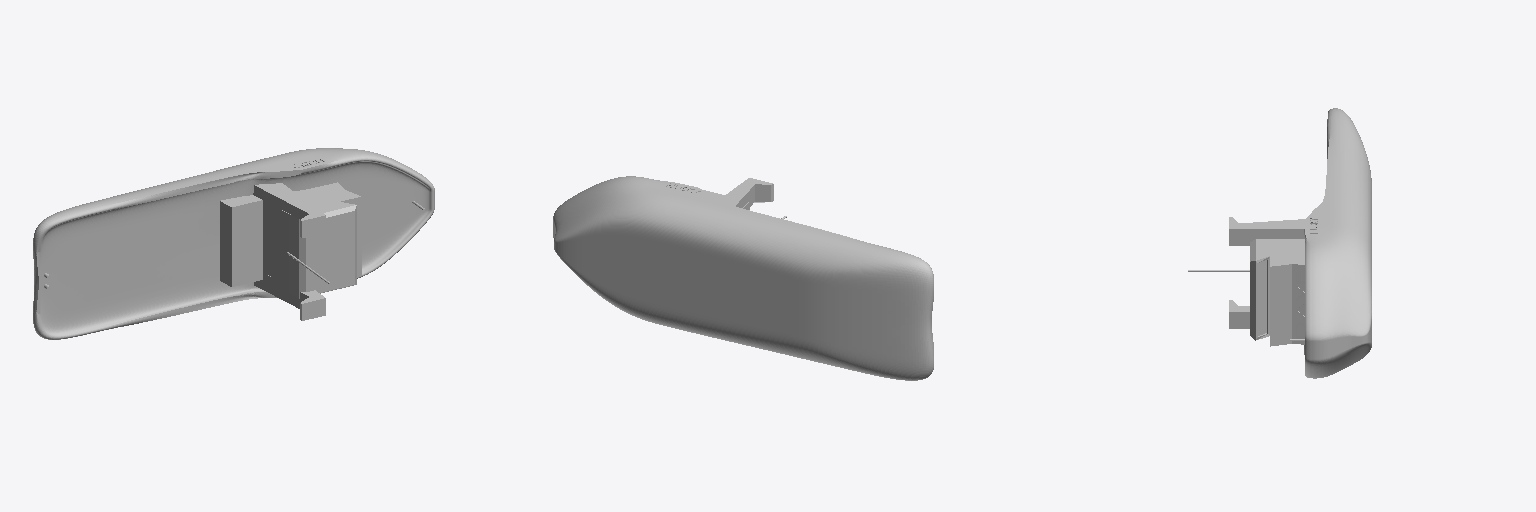
Rendered from visual vessel husky.obj.
3 renders of one model, left to right at view 1: azimuth 30°, elevation 25°; view 2: azimuth 150°, elevation 25°; view 3: azimuth 270°, elevation 25°, orthographic.
Bounding box in the file's own units: 80.4 × 25.24 × 33.13.